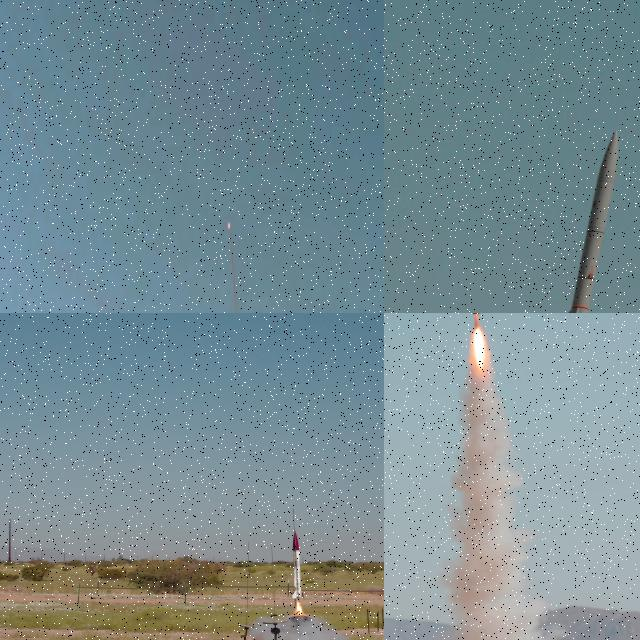Rocket: (526, 127, 623, 313), (290, 530, 308, 599), (228, 221, 230, 227)
